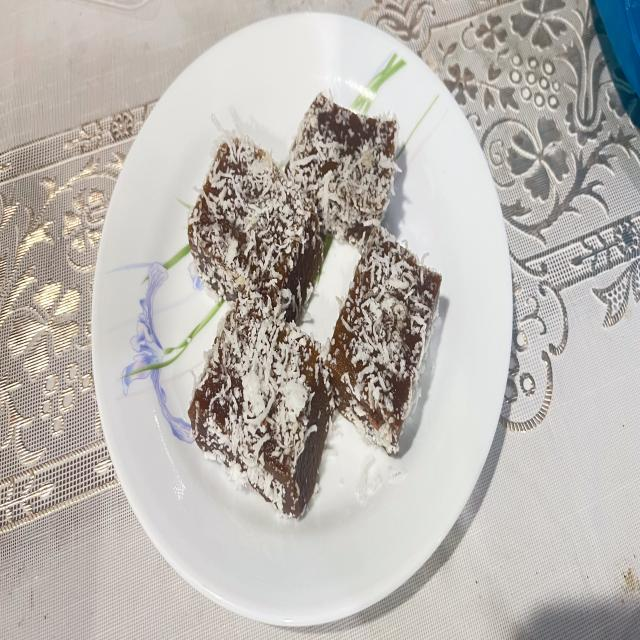kaswi: (189, 293, 332, 518), (328, 227, 441, 453), (188, 133, 322, 322), (286, 93, 399, 244)
